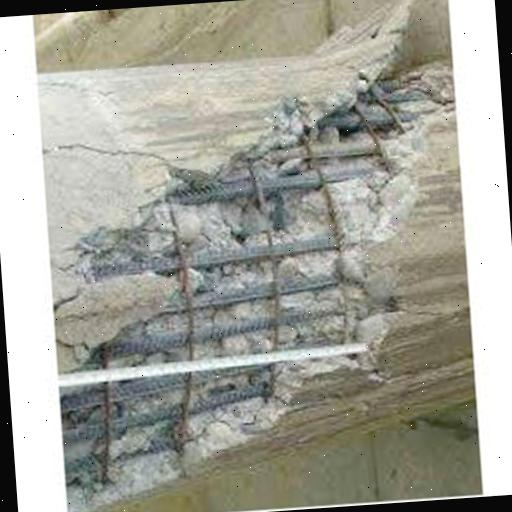spalling: (52, 41, 448, 462)
